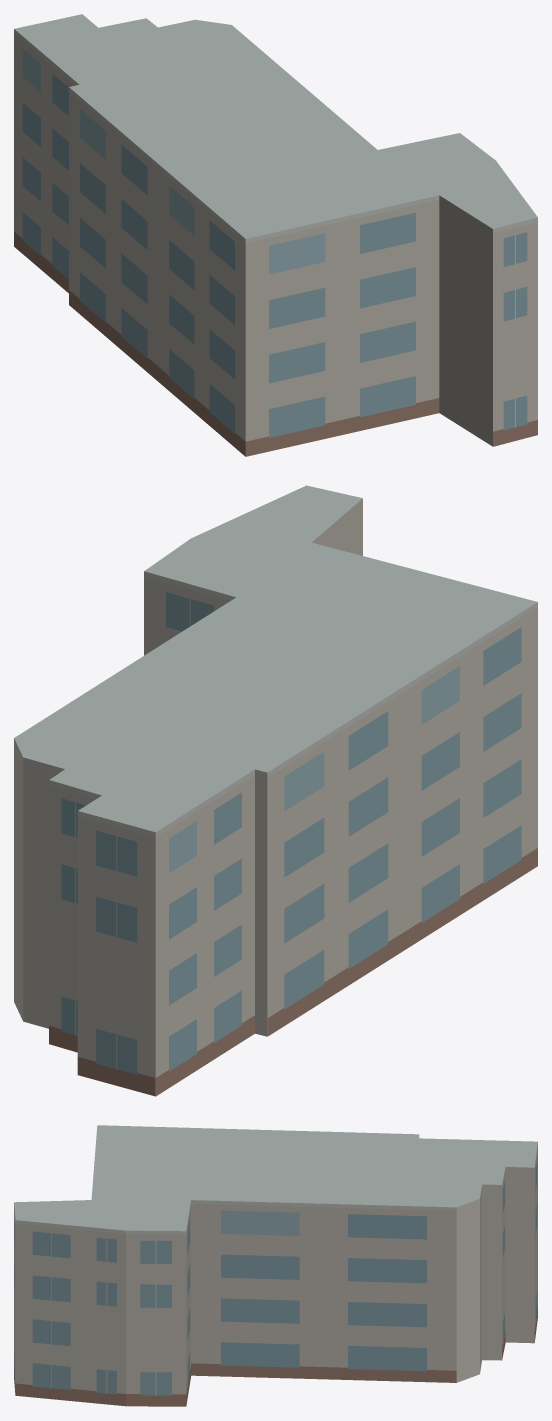
File: survey-upis-32659325.glb
3 renders of one model, top to bottom at view 1: azimuth 30°, elevation 25°; view 2: azimuth 150°, elevation 25°; view 3: azimuth 270°, elevation 25°, orthographic. The views are drawn at different scales.
Parts seen in each view (by area): view 1: survey-upis-32659325.tmp; view 2: survey-upis-32659325.tmp; view 3: survey-upis-32659325.tmp.
Part boxes in pixels (left/top/right/bottom): survey-upis-32659325.tmp: left=14, top=14, right=537, bottom=456; survey-upis-32659325.tmp: left=14, top=485, right=537, bottom=1096; survey-upis-32659325.tmp: left=14, top=1125, right=537, bottom=1406.
Bounding box in the file's own units: 15.81 × 12.2 × 33.
